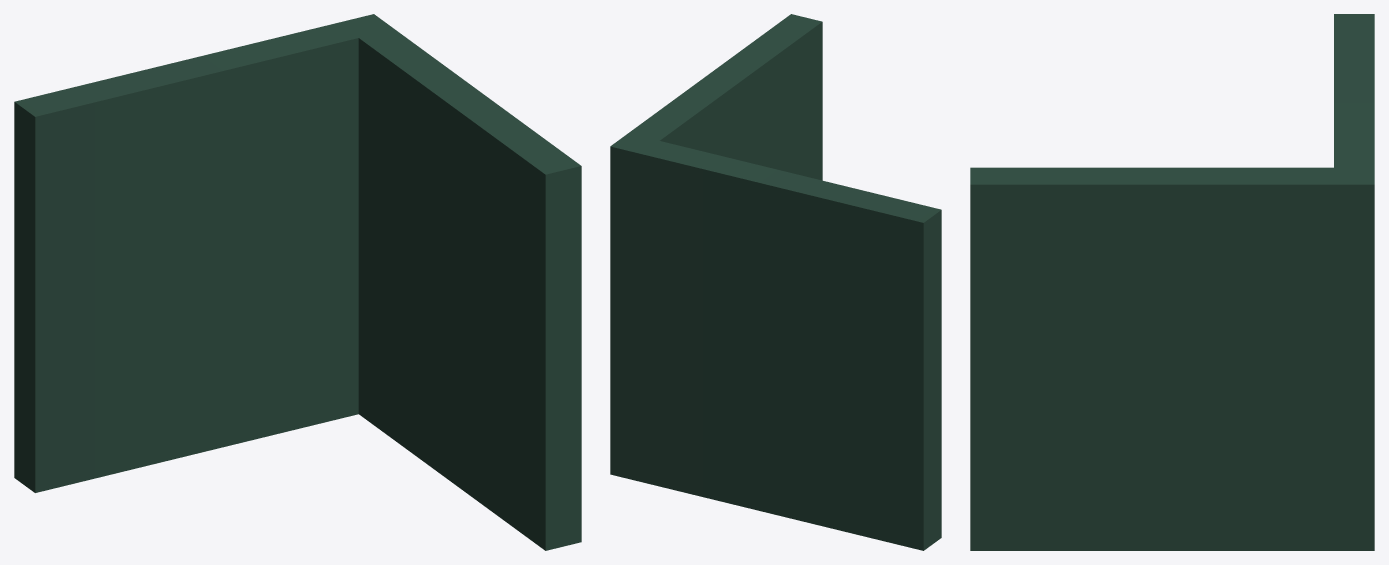
Rendered from SM_Wall_Corner90.fbx.
3 renders of one model, left to right at view 1: azimuth 30°, elevation 25°; view 2: azimuth 150°, elevation 25°; view 3: azimuth 270°, elevation 25°, orthographic. The views are drawn at different scales.
Parts seen in each view (by area): view 1: SM_Wall_Corner90; view 2: SM_Wall_Corner90; view 3: SM_Wall_Corner90.
Boxes of the visible parts, bbox=[...] form: SM_Wall_Corner90: bbox=[14, 14, 581, 550]; SM_Wall_Corner90: bbox=[610, 14, 941, 550]; SM_Wall_Corner90: bbox=[970, 14, 1374, 550].
Size of the model in its own units: 500 by 500 by 500.
Materials: 1 (1 with a texture image).
